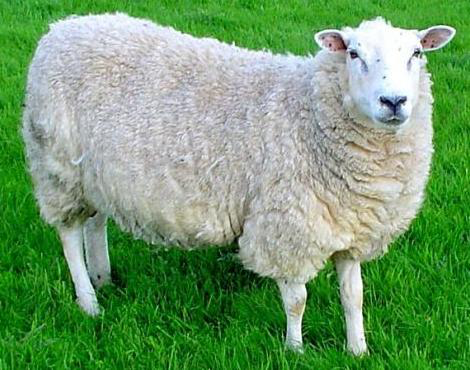koyun: (25, 6, 457, 357)
